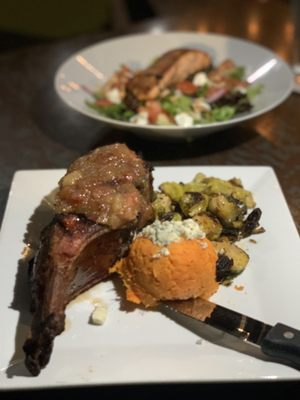sandwich: (112, 281, 300, 373)
sushi: (51, 29, 297, 147)
